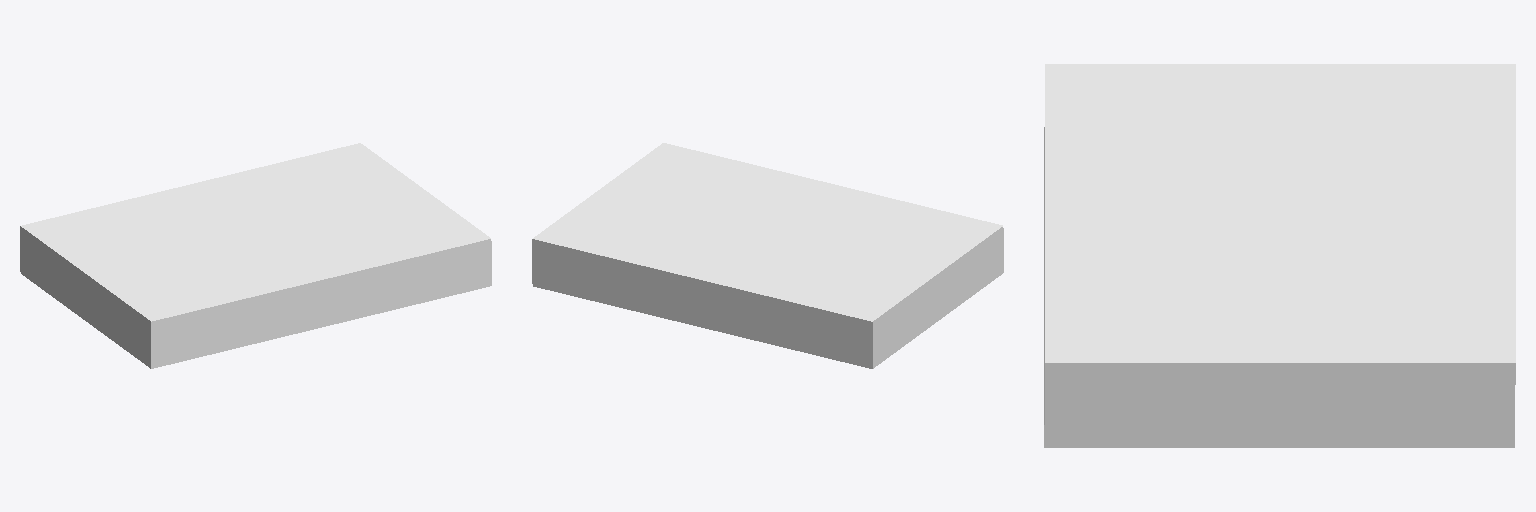
URDF robot description (plane):
<?xml version="0.0" ?>
<robot name="plane">
  <link name="base_link">
  <contact>
      <lateral_friction value="1"/>
  </contact>
    <inertial>
      <origin rpy="0 0 0" xyz="0 0 0"/>
       <mass value=".0"/>
       <inertia ixx="0" ixy="0" ixz="0" iyy="0" iyz="0" izz="0"/>
    </inertial>


    <visual>
      <geometry>
        <!-- new mesh 
        -->
        <mesh filename="vinyle_table.obj"/>
        <!--

        <box size="3 2 0.1"/>
        -->
      </geometry>
      <!--
        <material name="table_texture">
    <texture filename="vinyle_table.png"/>
  </material>
  -->
      <material name="white">
        <color rgba="1 1 1 1"/>
        <specular rgb="11 1 1"/>
      </material>
      <origin rpy="1.57 0 0" xyz="0 0 0"/>
    </visual>

    <collision>
      <origin rpy="0 0 0" xyz="0 0 0"/>
      <geometry>
	 	    <plane normal="0 0 1"/>
      </geometry>
    </collision>
  </link>
</robot>

--- What the picture shows (computed from the rendered views, not written in the file) ---
Views: 3 orthographic renders of the robot side by side, from view 1: azimuth 30°, elevation 25°; view 2: azimuth 150°, elevation 25°; view 3: azimuth 270°, elevation 25°.
Robot: plane — 1 links, 0 joints (none); root link base_link; default pose: all joints at 0.
Links seen in each view (by area): view 1: base_link; view 2: base_link; view 3: base_link.
Link boxes in pixels (x1,y1,x2,y2): base_link: (20,143,491,368); base_link: (532,143,1003,368); base_link: (1044,64,1515,447).
Bounding box of the posed robot: 3 × 2 × 0.4036 m (x, y, z).
Meshes: 1 distinct files referenced, 1 mesh visuals loaded (1 OBJ).